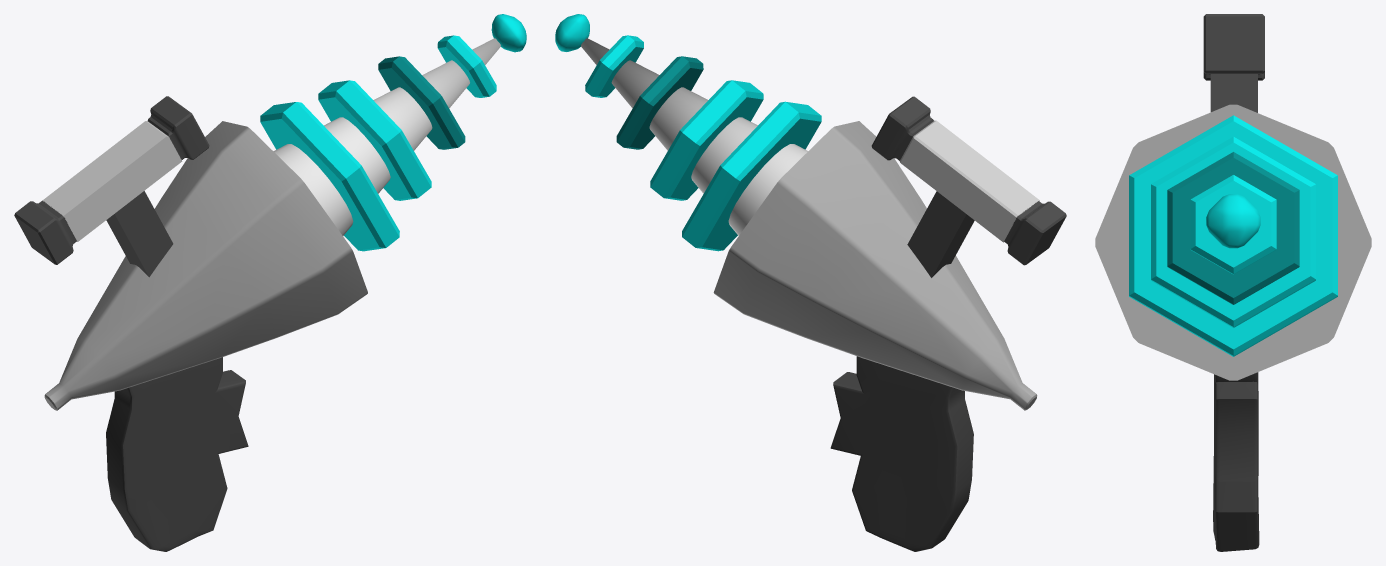
File: GunForGame.fbx
3 views of the same model, side by side, from view 1: azimuth 30°, elevation 25°; view 2: azimuth 150°, elevation 25°; view 3: azimuth 270°, elevation 25° (orthographic). The views are drawn at different scales.
Parts seen in each view (by area): view 1: pCylinder7, pCylinder6, test:pCube1, pCube8; view 2: pCylinder7, pCylinder6, test:pCube1, pCube8; view 3: pCylinder6, pCylinder7, test:pCube1, pCube8.
Boxes of the visible parts, left/top/right/bottom form: pCylinder7: left=44, top=121, right=367, bottom=410; pCylinder6: left=260, top=14, right=526, bottom=251; test:pCube1: left=106, top=357, right=248, bottom=551; pCube8: left=14, top=96, right=209, bottom=277; pCylinder7: left=713, top=121, right=1037, bottom=410; pCylinder6: left=555, top=14, right=821, bottom=251; test:pCube1: left=830, top=356, right=973, bottom=551; pCube8: left=871, top=96, right=1066, bottom=277; pCylinder6: left=1129, top=115, right=1337, bottom=356; pCylinder7: left=1095, top=104, right=1371, bottom=380; test:pCube1: left=1213, top=372, right=1259, bottom=551; pCube8: left=1203, top=14, right=1264, bottom=112.
Bounding box in the file's own units: 6.48 × 5.57 × 2.56.
